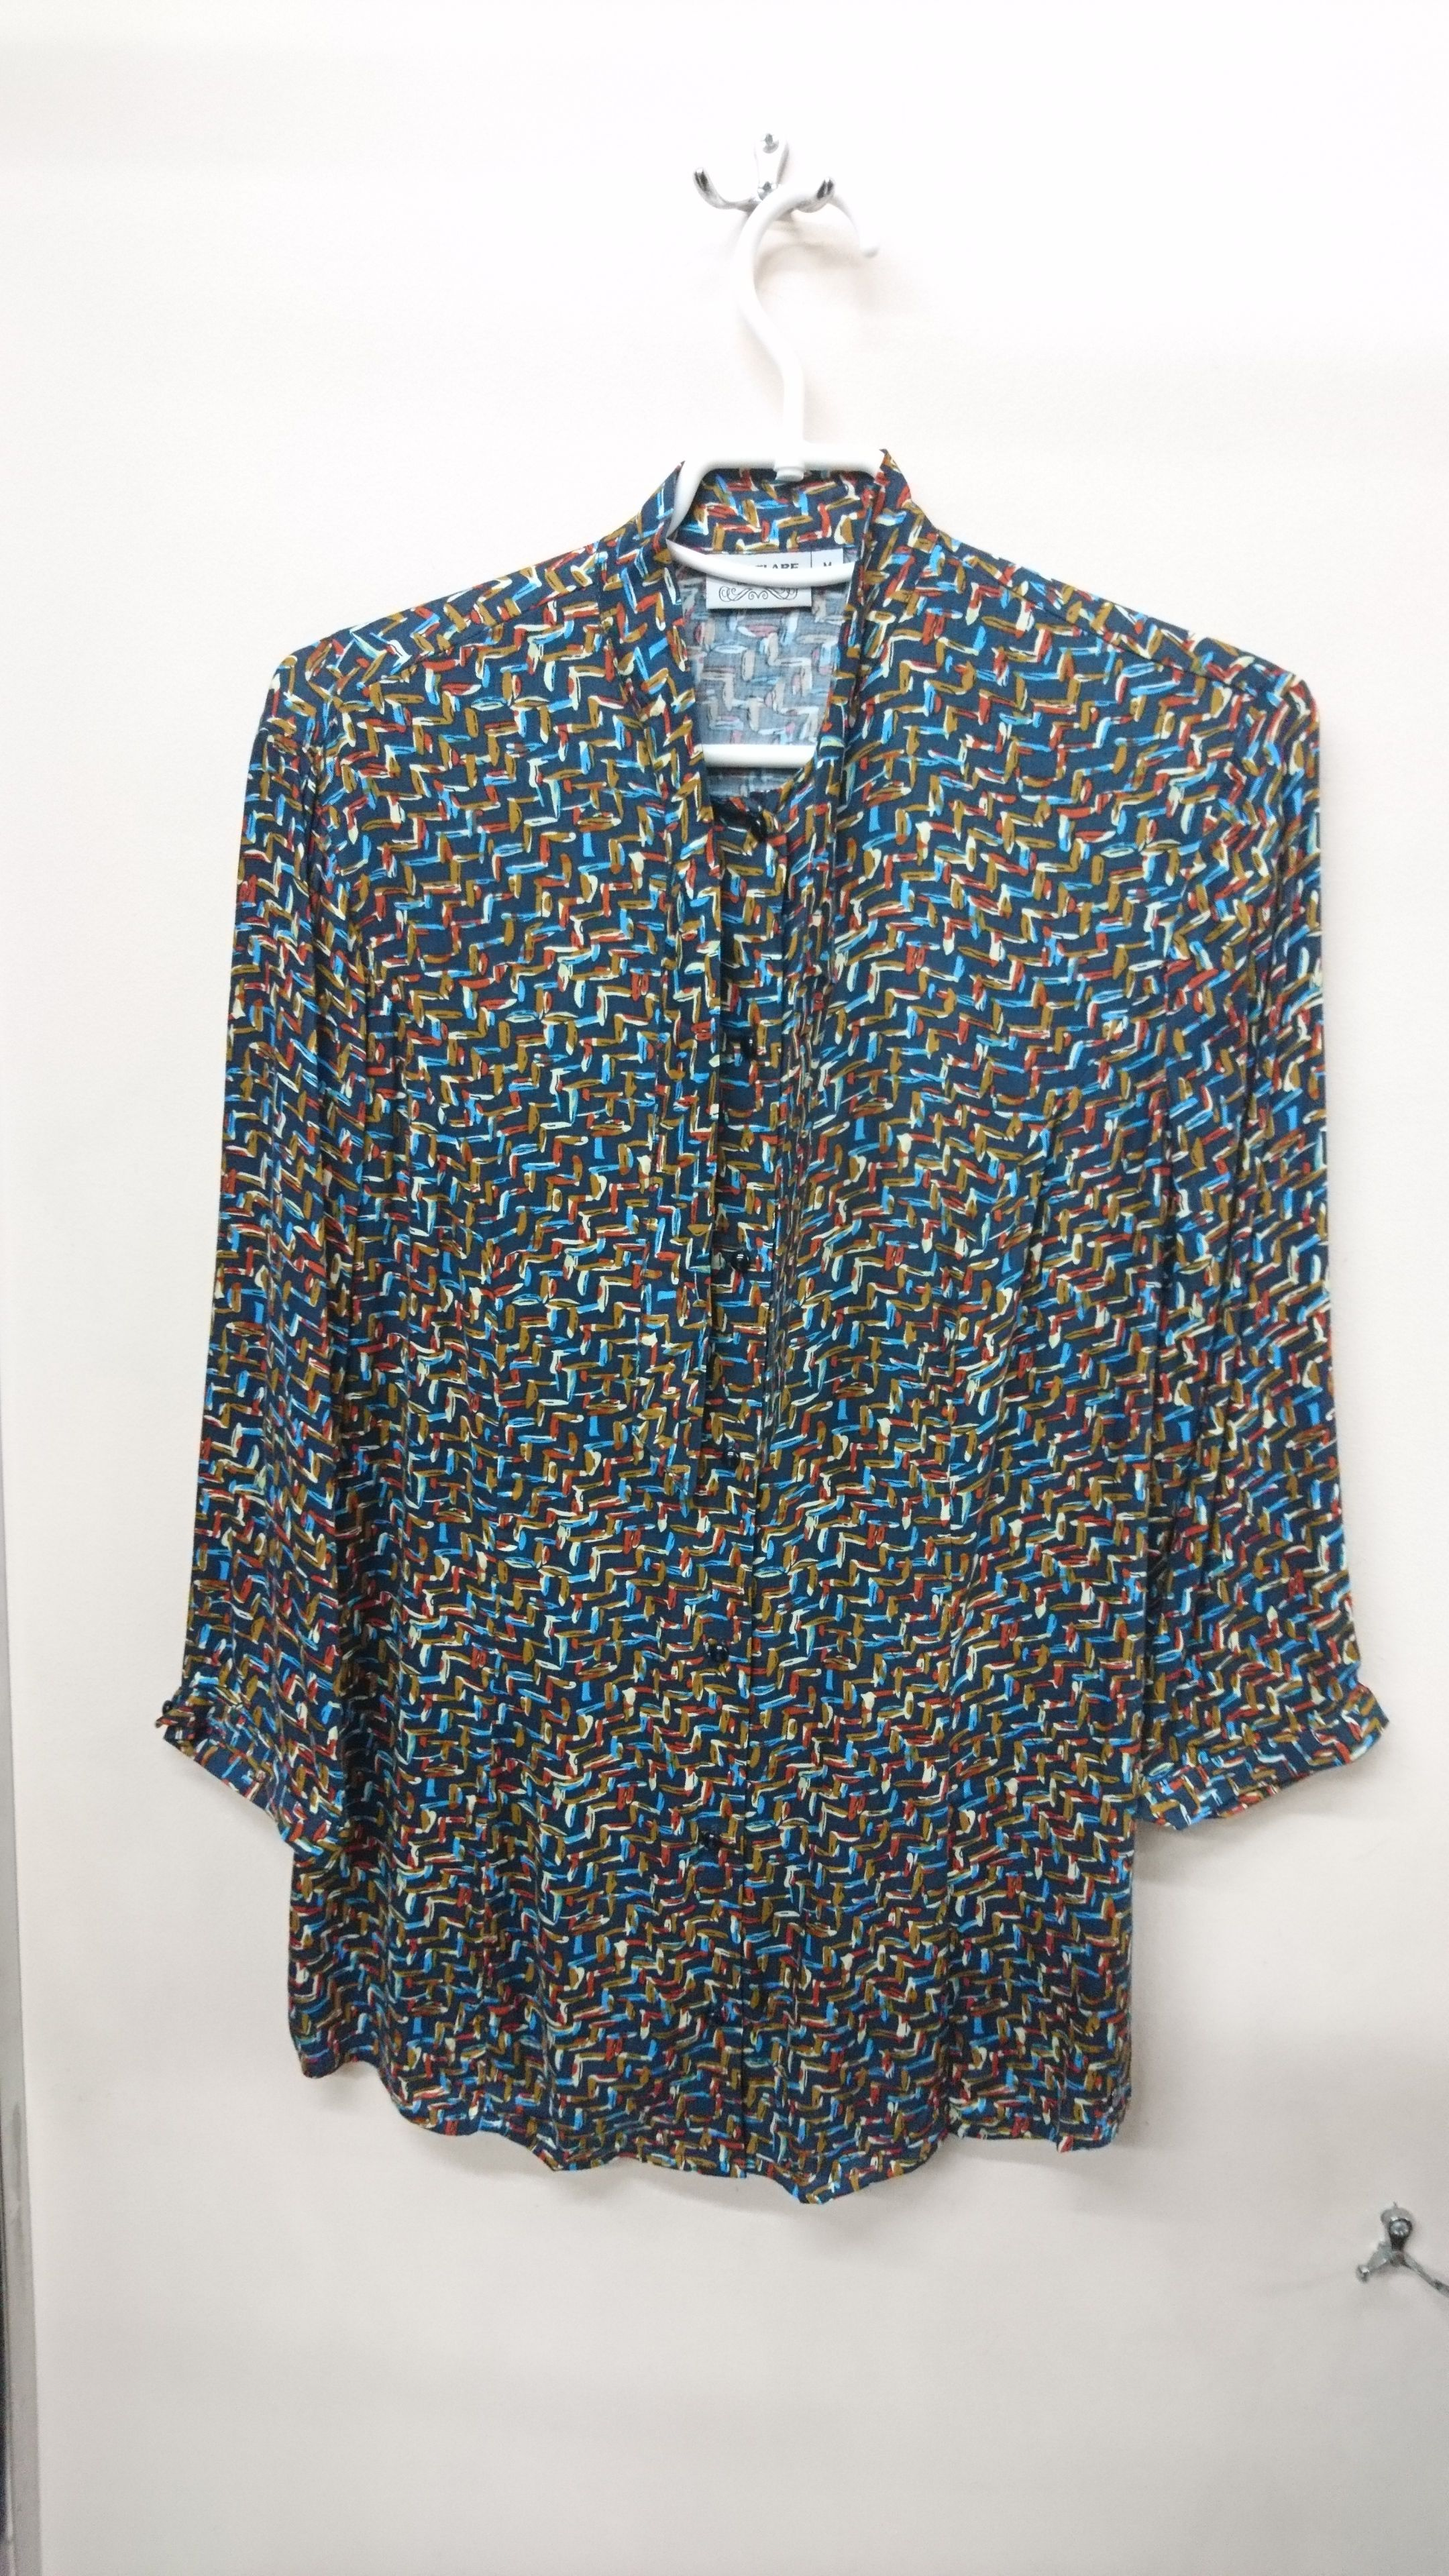clothes: (175, 435, 1410, 2176)
